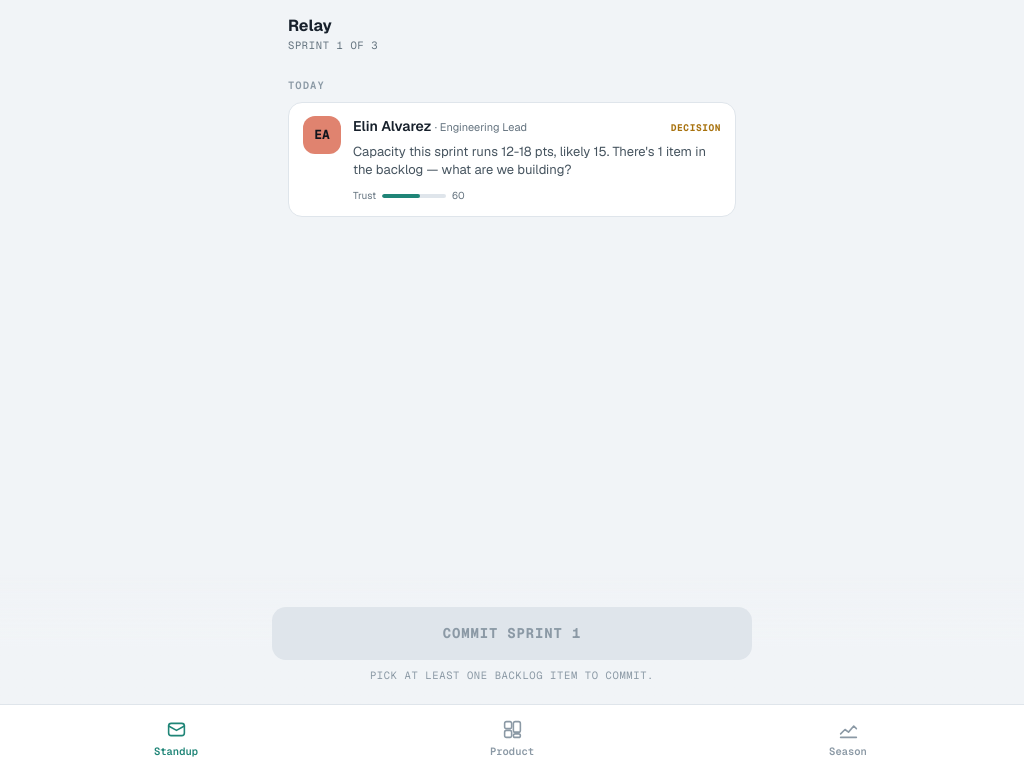
Test: SimTabs › switching back to Standup still shows the live InboxTurn planning flow
Click the tab "Product" at (512, 740), box [344,713,680,767]
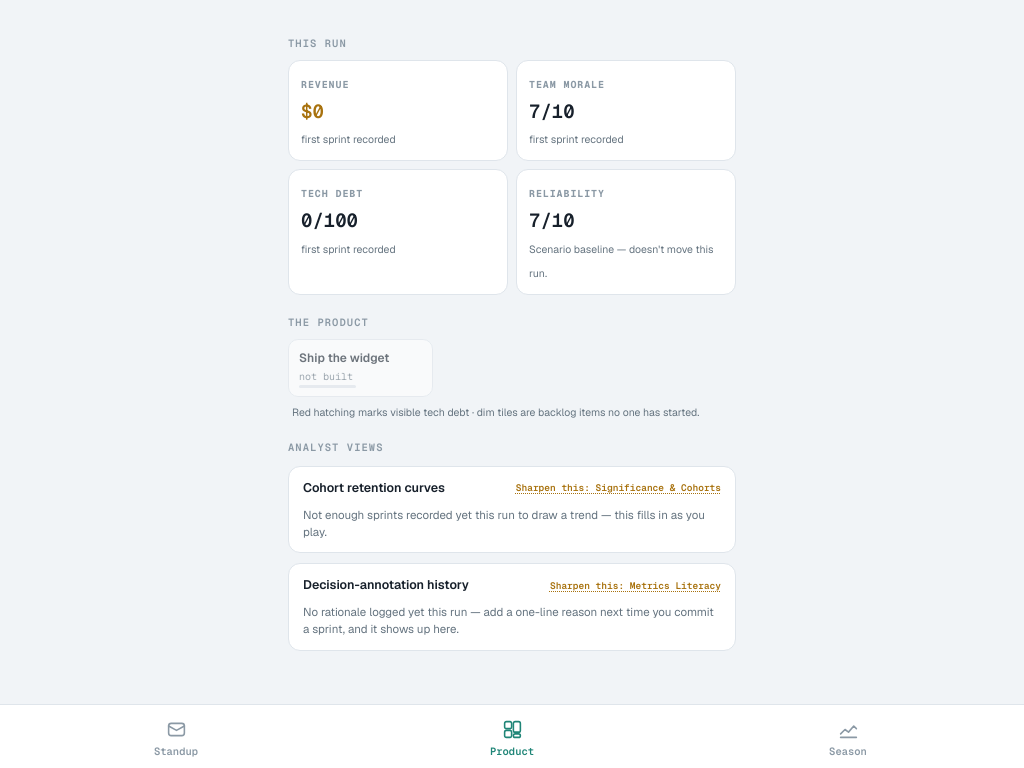
Click the tab "Standup" at (176, 740), box [8,713,344,767]
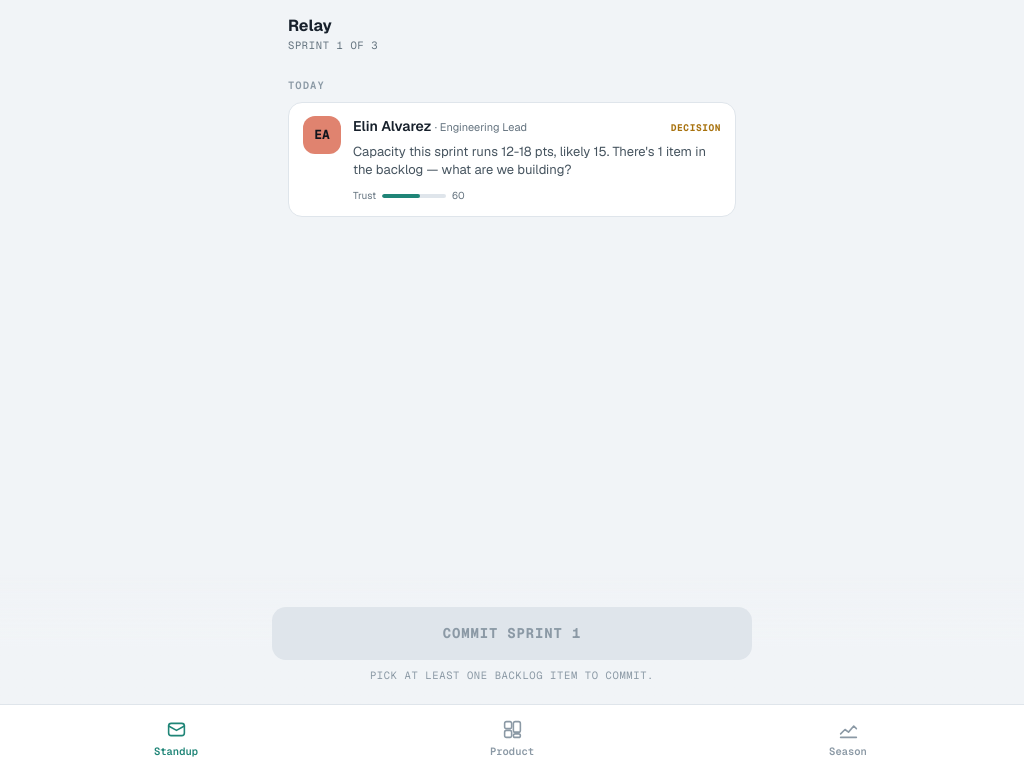
Check: the button "Commit Sprint 1" is shown, box [272,607,752,660]
